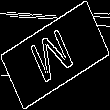M_SE: (29, 22, 81, 88)
